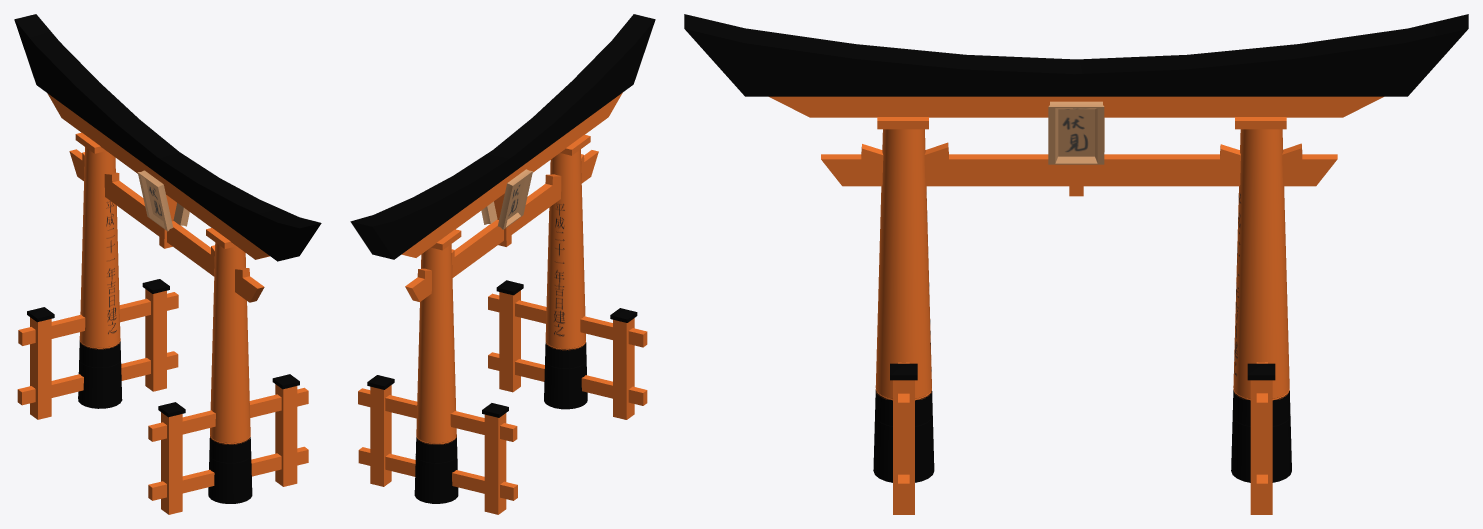
The model's file is tori.fbx.
3 renders of one model, left to right at view 1: azimuth 30°, elevation 25°; view 2: azimuth 150°, elevation 25°; view 3: azimuth 270°, elevation 25°, orthographic. The views are drawn at different scales.
Visible parts, largest first — view 1: toriiTop2; view 2: toriiTop2; view 3: toriiTop2.
Boxes of the visible parts, x1=… form: toriiTop2: x1=14, y1=14, x2=321, y2=514; toriiTop2: x1=350, y1=14, x2=655, y2=514; toriiTop2: x1=684, y1=14, x2=1468, y2=514.
Size of the model in its own units: 19.91 by 39.91 by 62.81.
